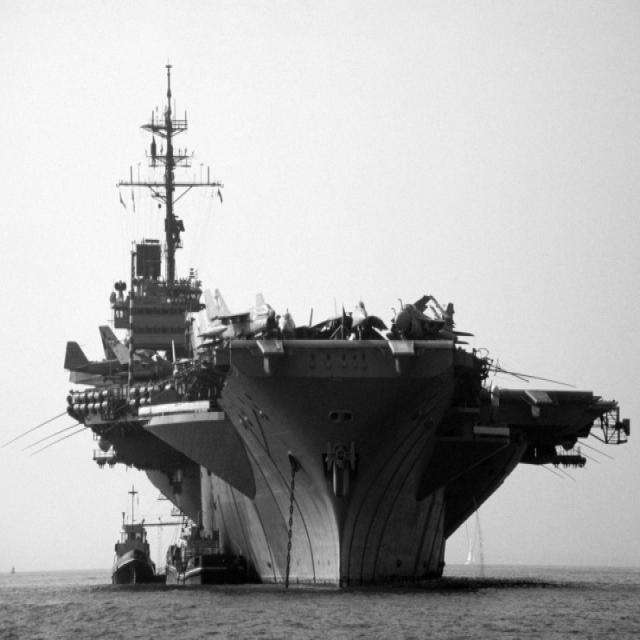Portanaves: (65, 56, 635, 601)
